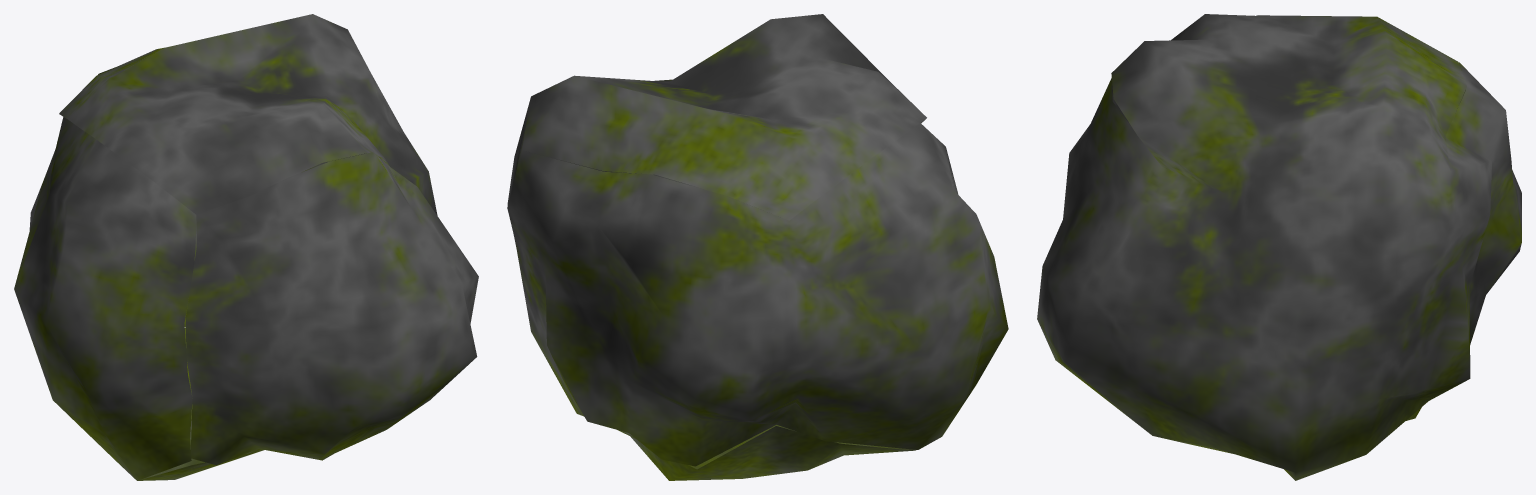
The model's file is boulder_lod1.glb.
The picture shows the model from 3 angles, left to right: view 1: azimuth 30°, elevation 25°; view 2: azimuth 150°, elevation 25°; view 3: azimuth 270°, elevation 25°; orthographic projection. The views are drawn at different scales.
Visible parts, largest first — view 1: boulder_lod1; view 2: boulder_lod1; view 3: boulder_lod1.
Part boxes in pixels (box(x1,y1,x2,y2)): boulder_lod1: box(14, 14, 478, 480); boulder_lod1: box(507, 14, 1008, 480); boulder_lod1: box(1037, 14, 1521, 480).
Bounding box in the file's own units: 3.38 × 2.89 × 3.34.
1 material, 1 textured.
